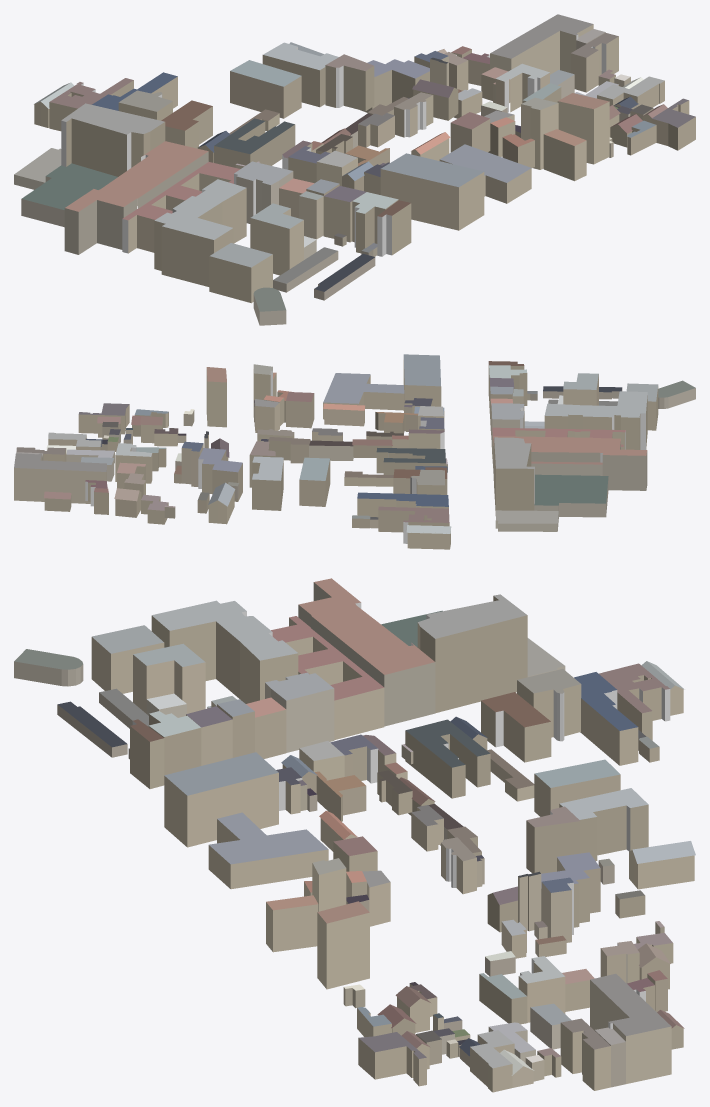
3 views of the same model, one above another, from view 1: azimuth 30°, elevation 25°; view 2: azimuth 150°, elevation 25°; view 3: azimuth 270°, elevation 25° (orthographic). The views are drawn at different scales.
Parts seen in each view (by area): view 1: tuile; view 2: tuile; view 3: tuile.
Boxes of the visible parts, <box> form: tuile: <box>14,14,695,325</box>; tuile: <box>14,354,695,549</box>; tuile: <box>14,578,695,1092</box>.
Bounding box in the file's own units: 282 × 50.56 × 209.
